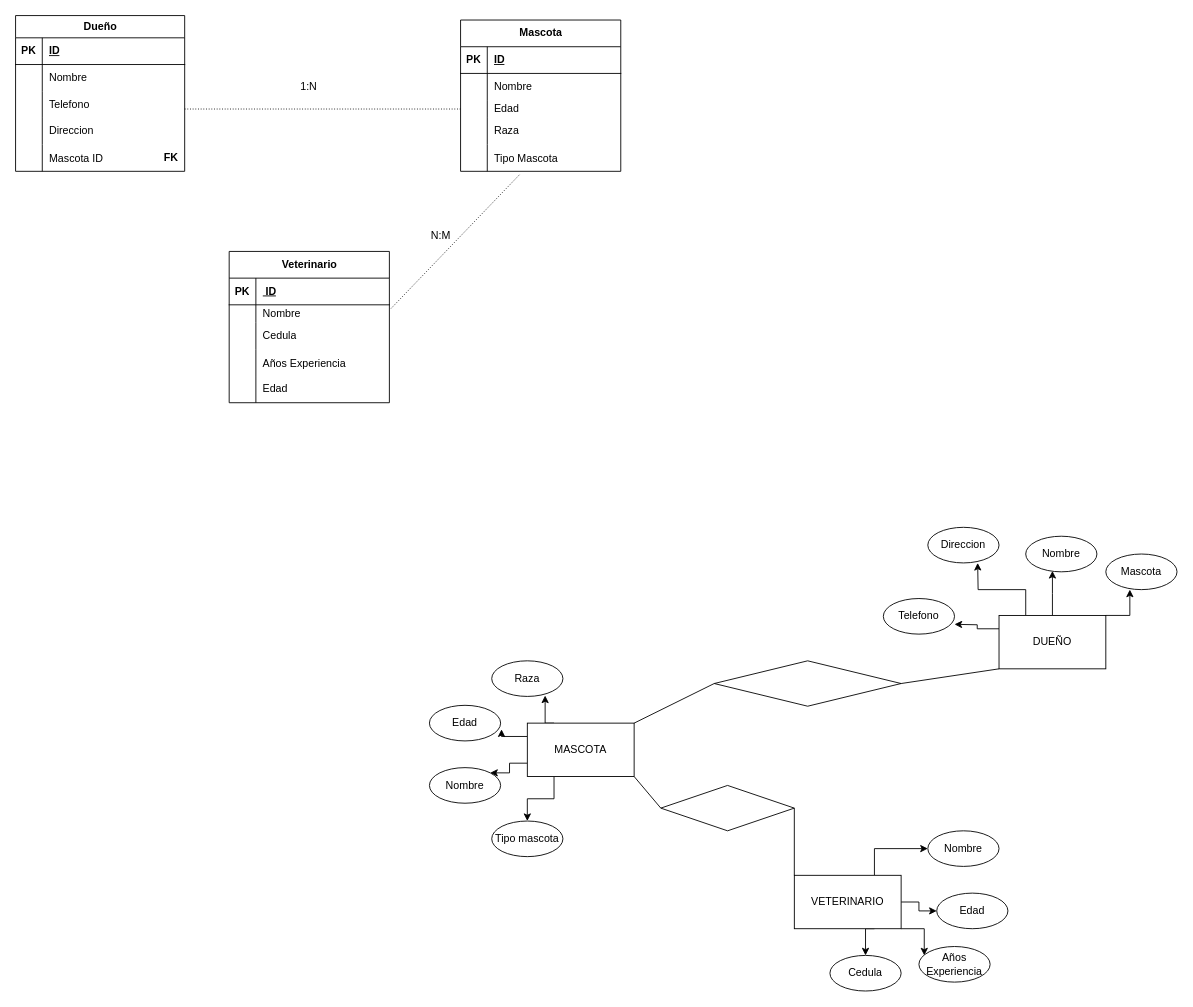
The diagram is 1193 pixels wide and 1007 high, and some of its shapes have lost their labels. The box of each missing label's shape, as (x1, y1, x2, y2) in pixels:
Es atendido: (660, 785, 794, 831)
Lleva Mascota: (713, 660, 901, 706)
